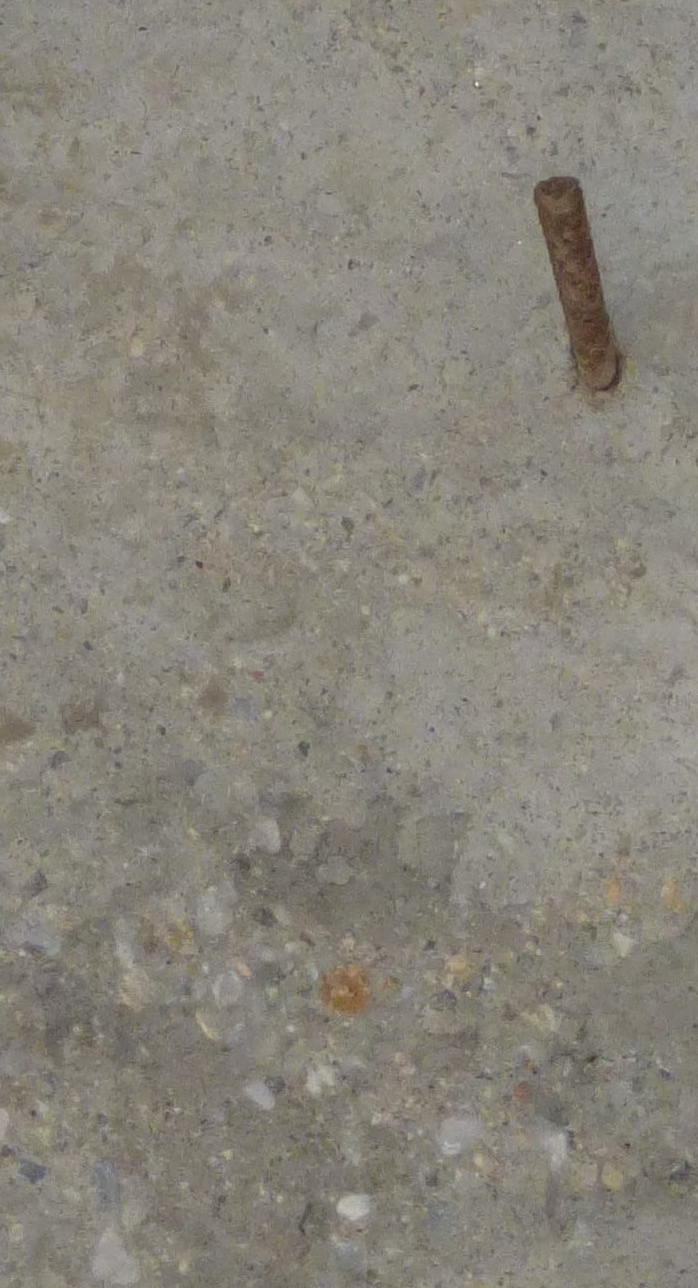Corrosion: (319, 962, 370, 1015)
Exposed reinforcement: (532, 174, 617, 391)
